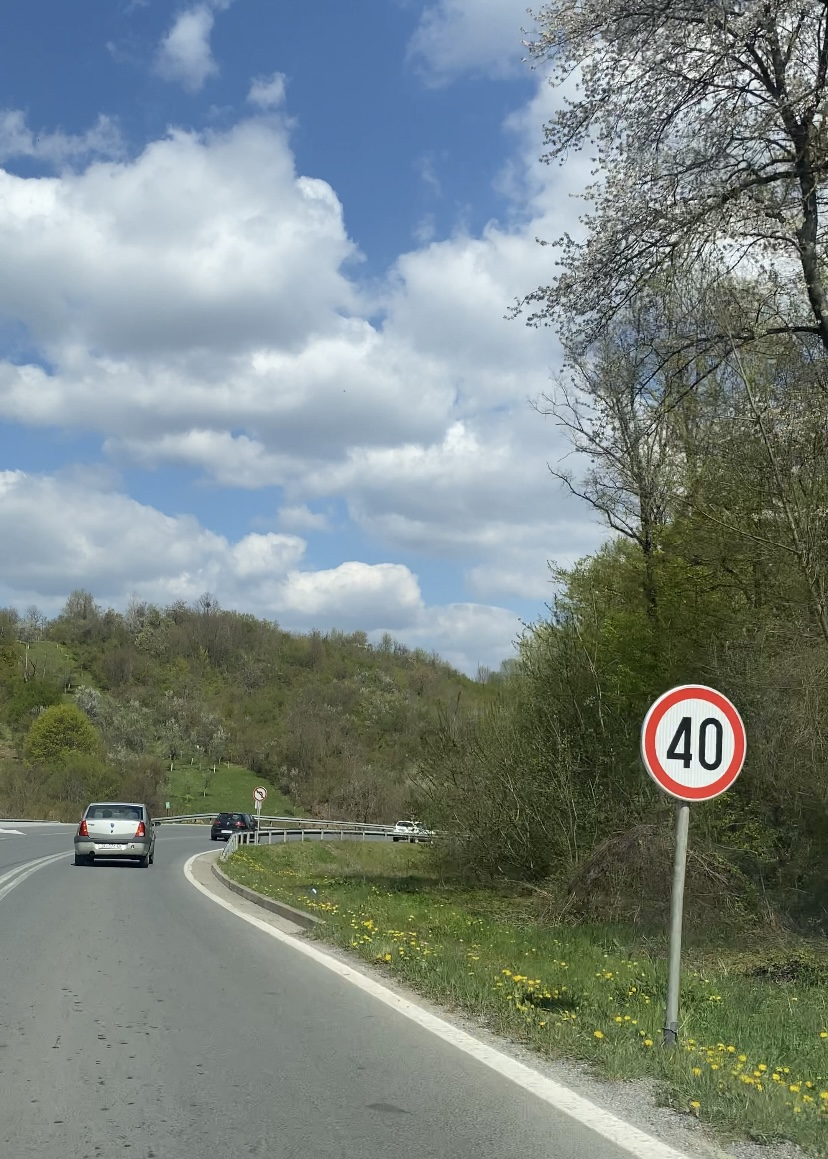Ograničenje brzine 40: (640, 683, 747, 802)
